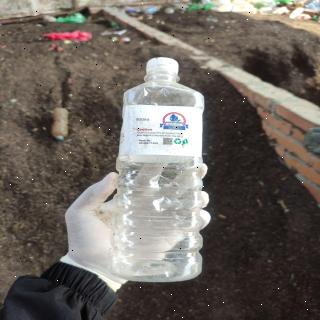Plastic-bottle: (106, 52, 209, 285)
